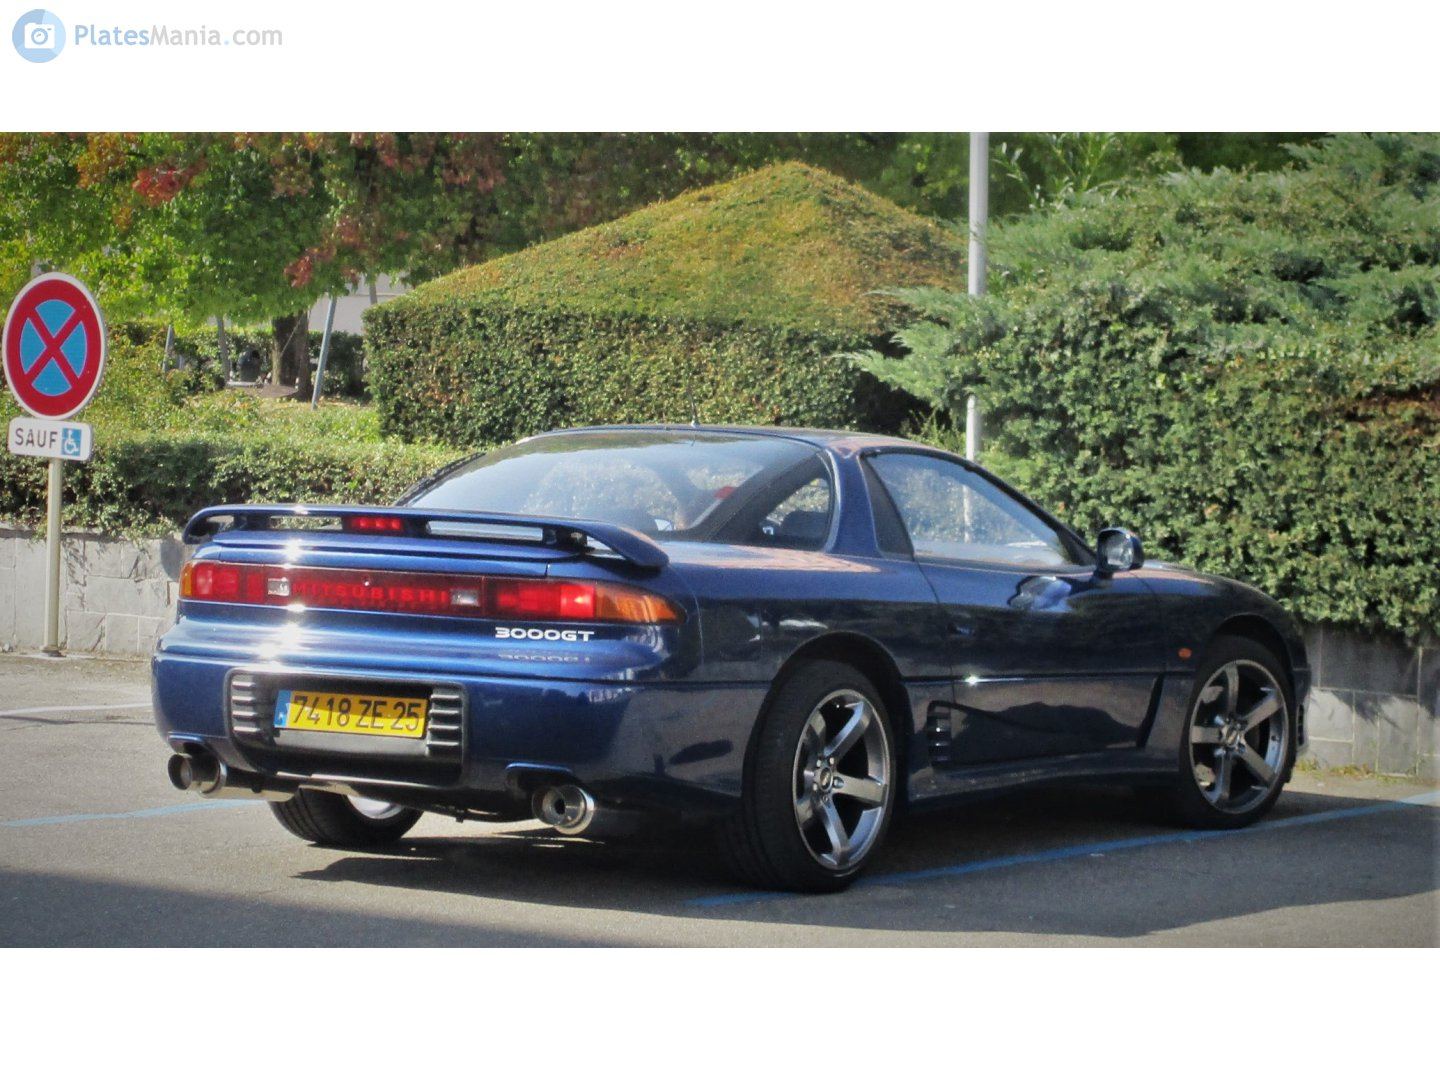licence plate: (270, 687, 429, 741)
